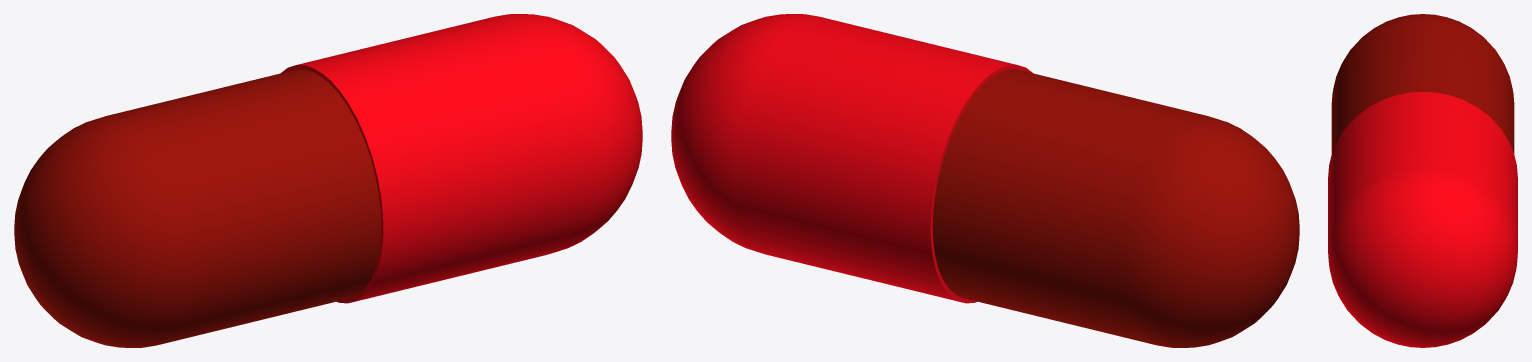
The model's file is CapsuleGhermez.fbx.
3 renders of one model, left to right at view 1: azimuth 30°, elevation 25°; view 2: azimuth 150°, elevation 25°; view 3: azimuth 270°, elevation 25°, orthographic. The views are drawn at different scales.
Visible parts, largest first — view 1: Capsule2; view 2: Capsule2; view 3: Capsule2.
Boxes of the visible parts, x1,y1,x2,y2 form: Capsule2: (14, 14, 642, 347); Capsule2: (671, 14, 1299, 347); Capsule2: (1328, 14, 1517, 347).
Size of the model in its own units: 586 by 208 by 208.
